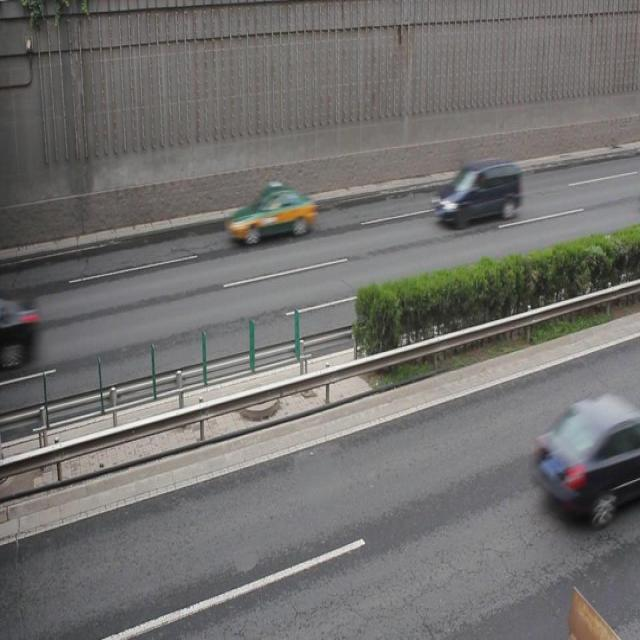car: (225, 185, 316, 244), (1, 290, 39, 367)
truck: (534, 393, 640, 520), (432, 159, 520, 229)
